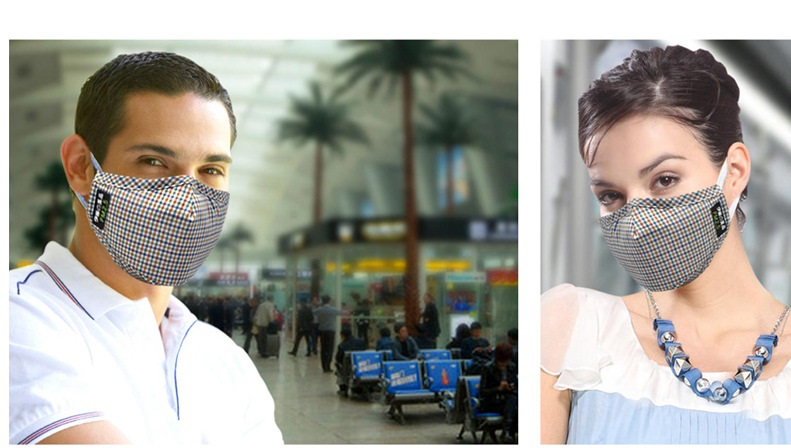face_mask: (92, 99, 228, 287), (587, 116, 719, 293)
